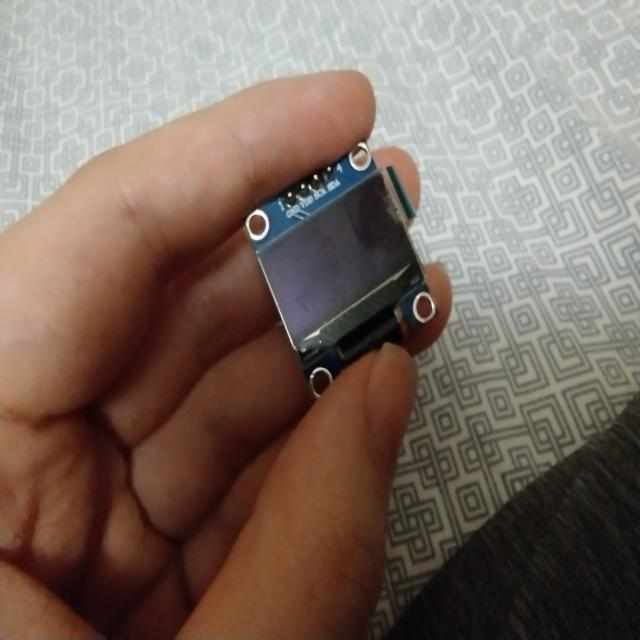oled: (240, 136, 446, 408)
